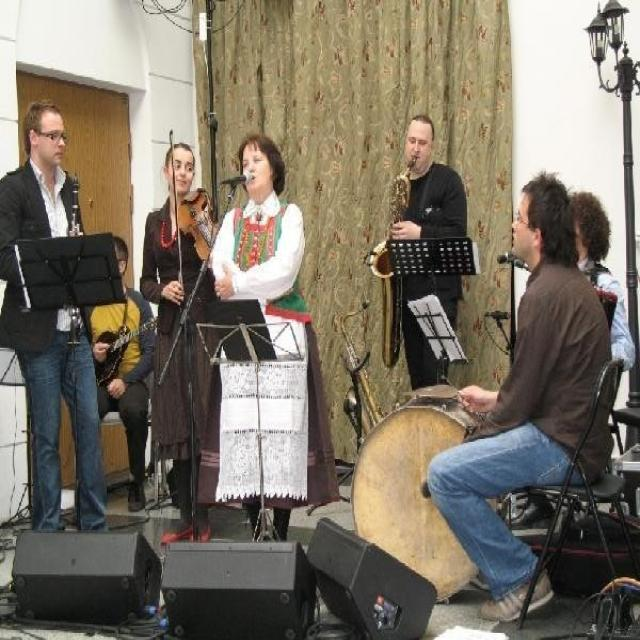clarinet: (69, 174, 85, 346)
guitar: (92, 304, 163, 382)
saxophone: (374, 156, 418, 362), (338, 295, 384, 438)
violin: (178, 185, 222, 259)
